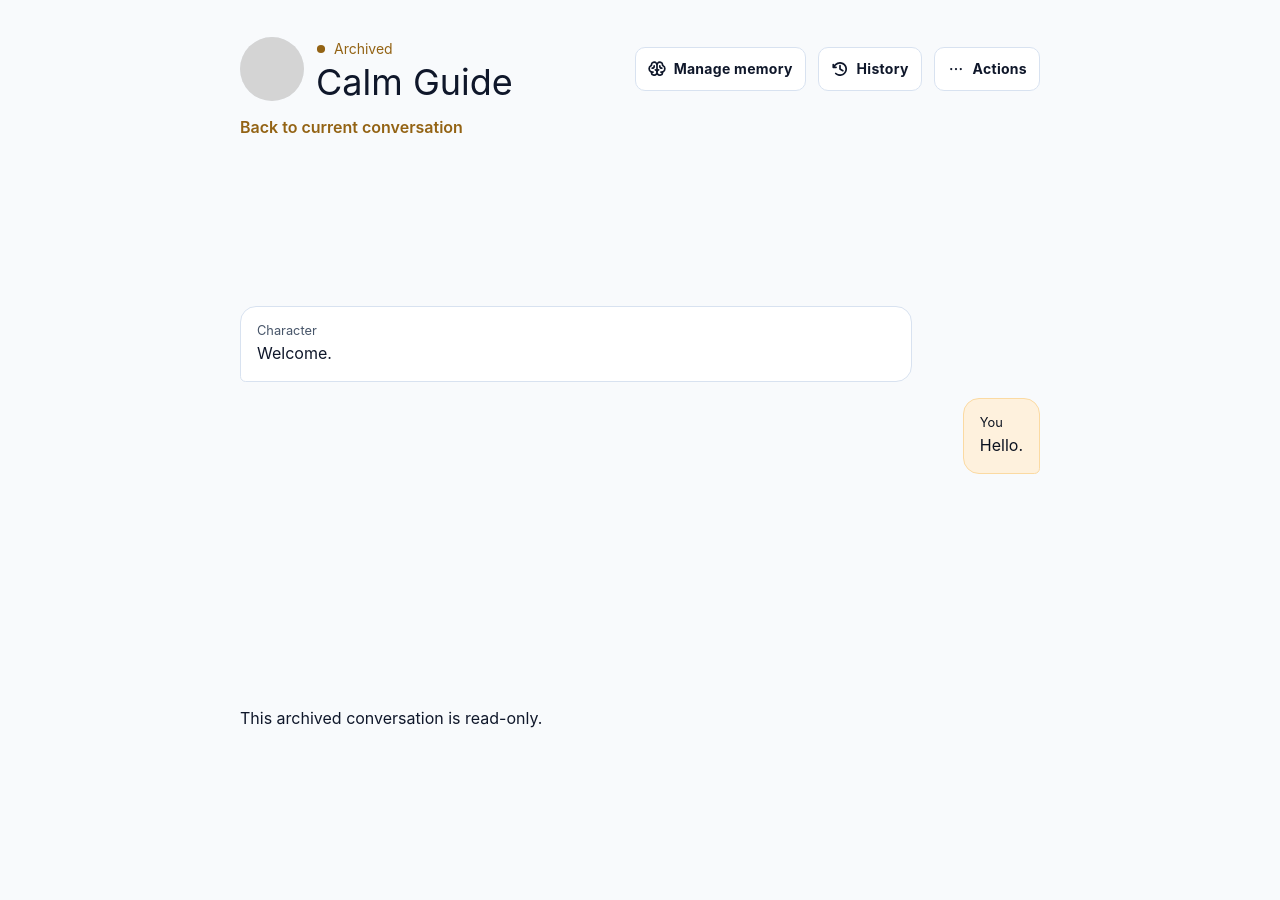
Test: renders archived conversations as read-only with delete and back actions
The image size is (1280, 900).
Expected: the message reads "This archived conversation is read-only.", [240,708,542,728]
What coordinates should you click on to do the following:
click the button with aria-label "Open conversation actions"
I would click on:
 (987, 70)
Its box is [934,48,1040,92].
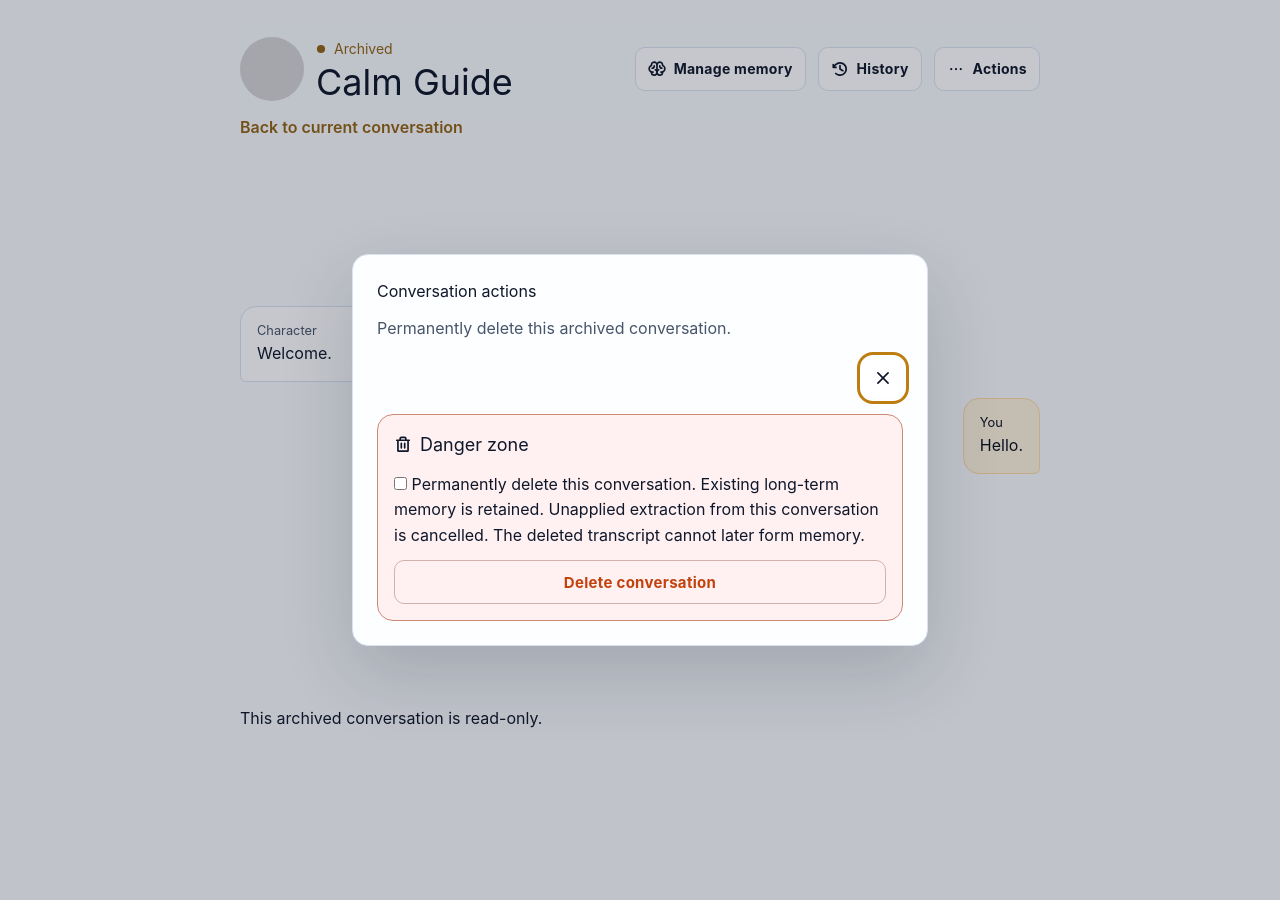
Expected: the button "Delete conversation" is shown, [394,560,886,604]
